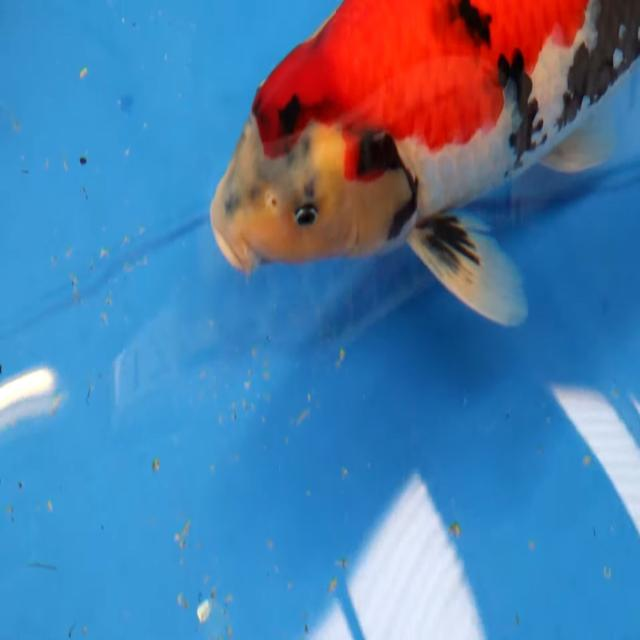Showa: (208, 0, 638, 329)
